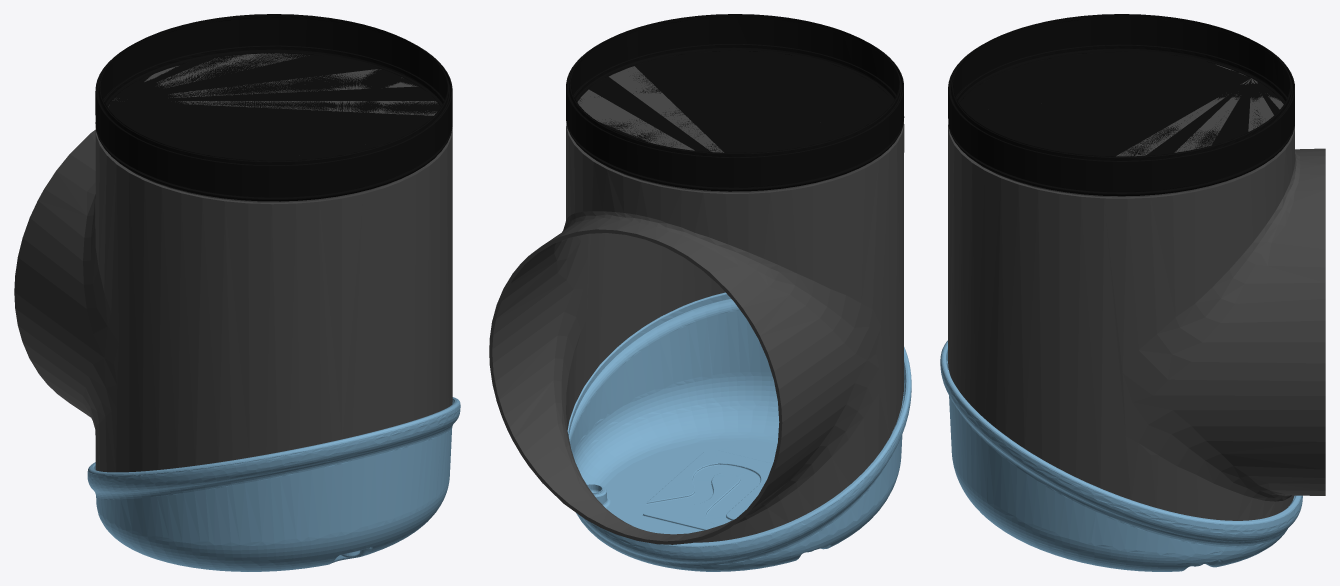
The model's file is wrist2.obj.
The picture shows the model from 3 angles, left to right: view 1: azimuth 30°, elevation 25°; view 2: azimuth 150°, elevation 25°; view 3: azimuth 270°, elevation 25°; orthographic projection. The views are drawn at different scales.
Visible parts, largest first — view 1: eSeries_UR10e_040, eSeries_UR10e_035, eSeries_UR10e_030; view 2: eSeries_UR10e_040, eSeries_UR10e_030, eSeries_UR10e_035; view 3: eSeries_UR10e_040, eSeries_UR10e_035, eSeries_UR10e_030.
Part boxes in pixels (x1,y1,x2,y2): eSeries_UR10e_040: (14,53,452,472); eSeries_UR10e_035: (95,14,452,201); eSeries_UR10e_030: (87,397,460,571); eSeries_UR10e_040: (489,66,904,544); eSeries_UR10e_030: (567,292,911,571); eSeries_UR10e_035: (566,14,904,191); eSeries_UR10e_040: (948,64,1325,520); eSeries_UR10e_035: (948,14,1294,196); eSeries_UR10e_030: (940,340,1302,571).
Bounding box in the file's own units: 0.094 × 0.1249 × 0.0999.
